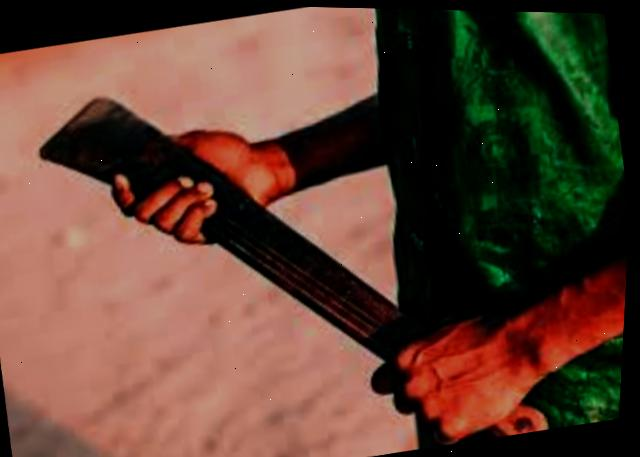long knife: (12, 1, 587, 457)
